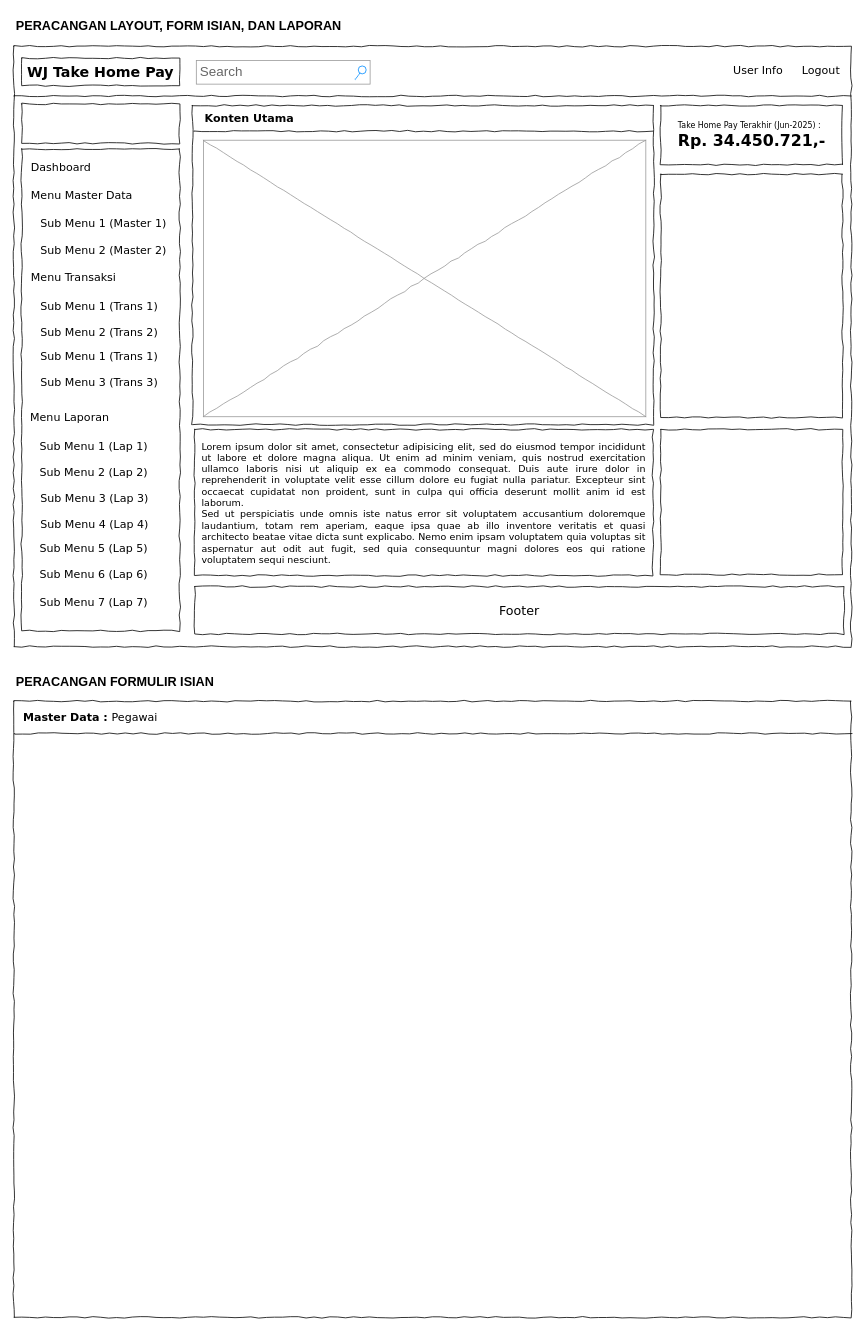
Image size: 866x1331. Some labels were removed from this diagram. Here are the shapes that lost their labels. From the top down, the box of each, then its label:
(21, 103, 180, 143): LOGO LENGKAP
(660, 173, 843, 418): Detail Data Master
(660, 429, 843, 575): History Take Home Pay
